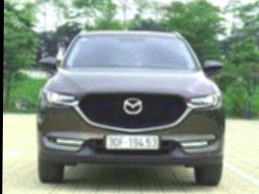Bien-so: (102, 138, 154, 155)
